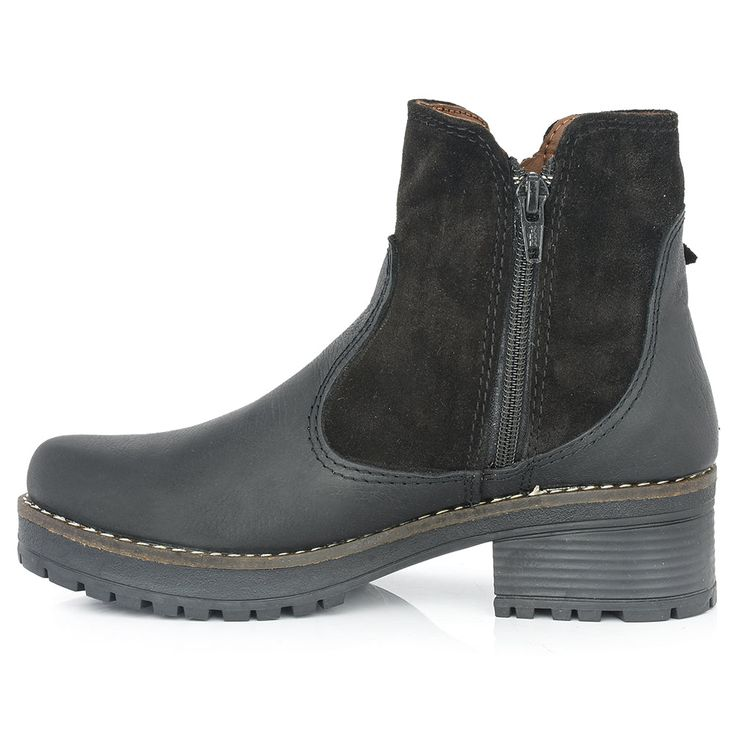gamuza: (323, 98, 687, 473)
